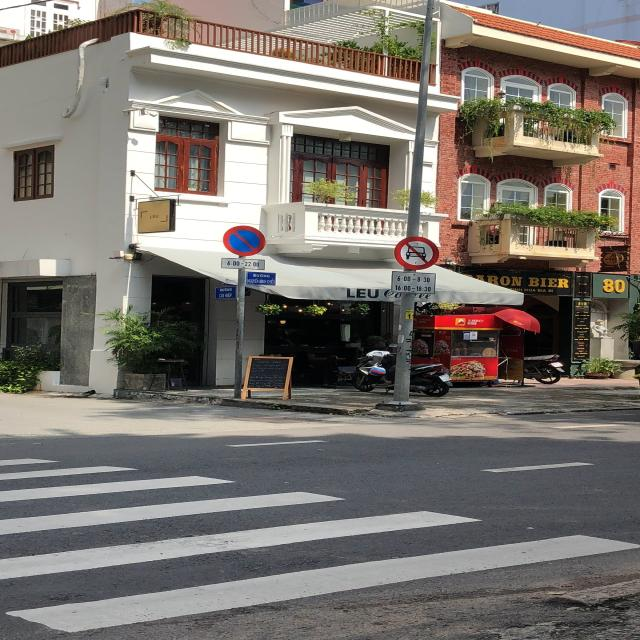Bien bao cam do xe: (217, 224, 276, 256)
Bien bao cam xe oto: (394, 235, 443, 270)
